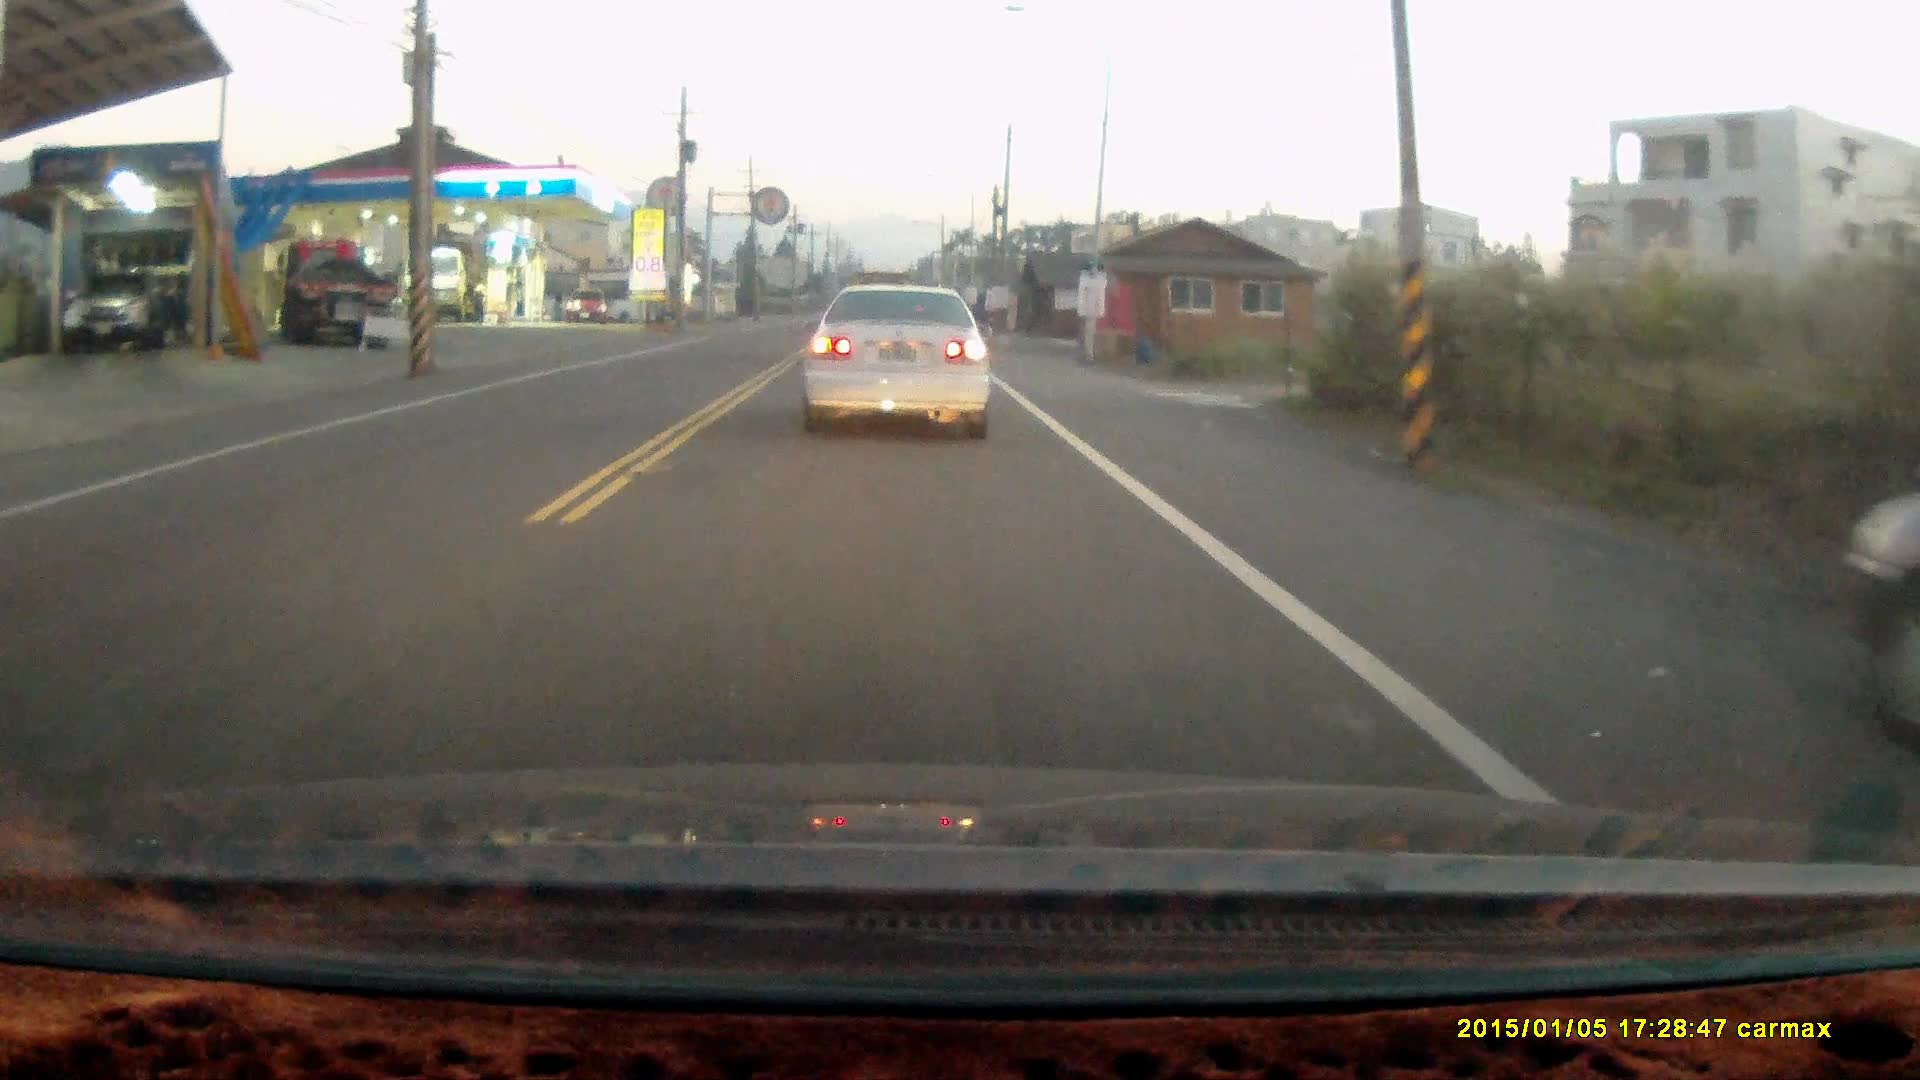pedestrian: (468, 276, 488, 320)
vehicle: (795, 287, 995, 449), (276, 243, 398, 353), (397, 238, 484, 322), (566, 290, 609, 323)
